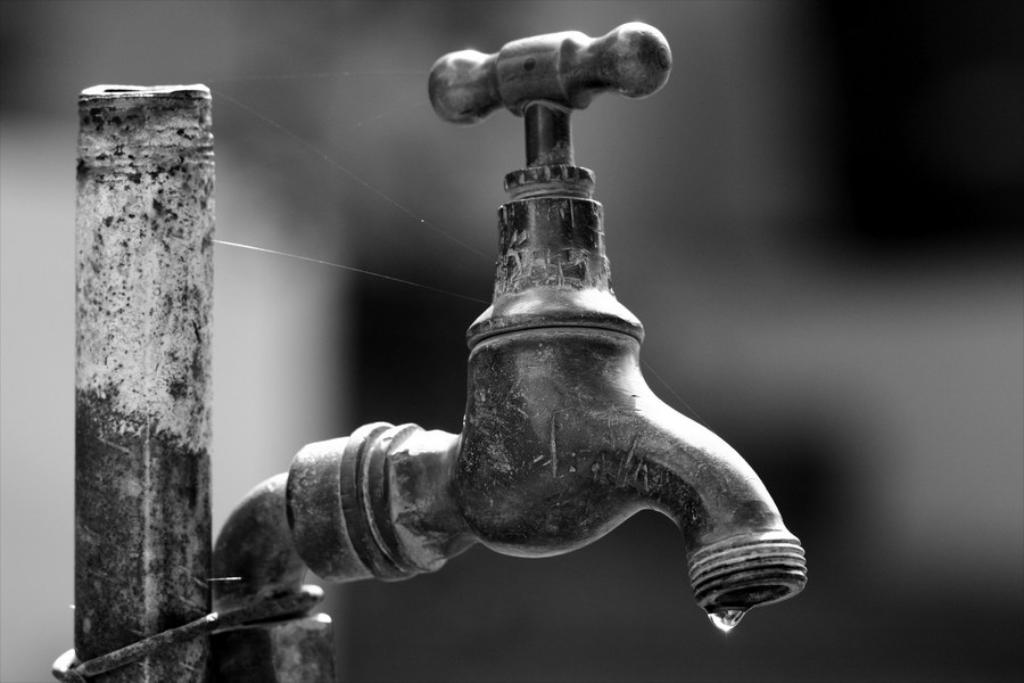tap: (204, 20, 808, 611)
